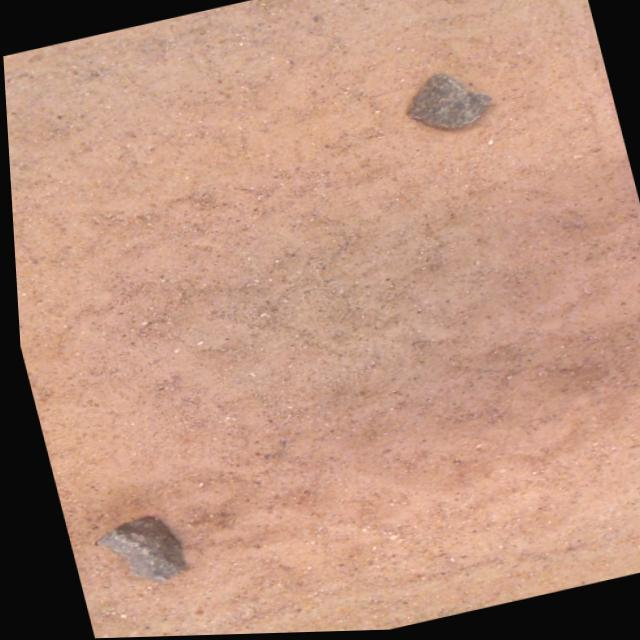rock: (87, 518, 176, 583), (405, 77, 488, 132)
